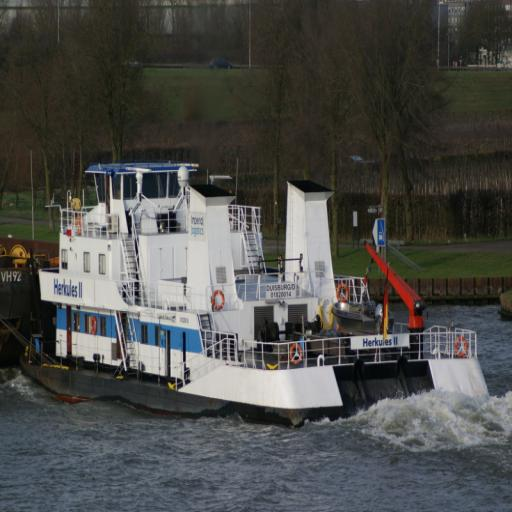tugboat: (20, 158, 497, 441)
